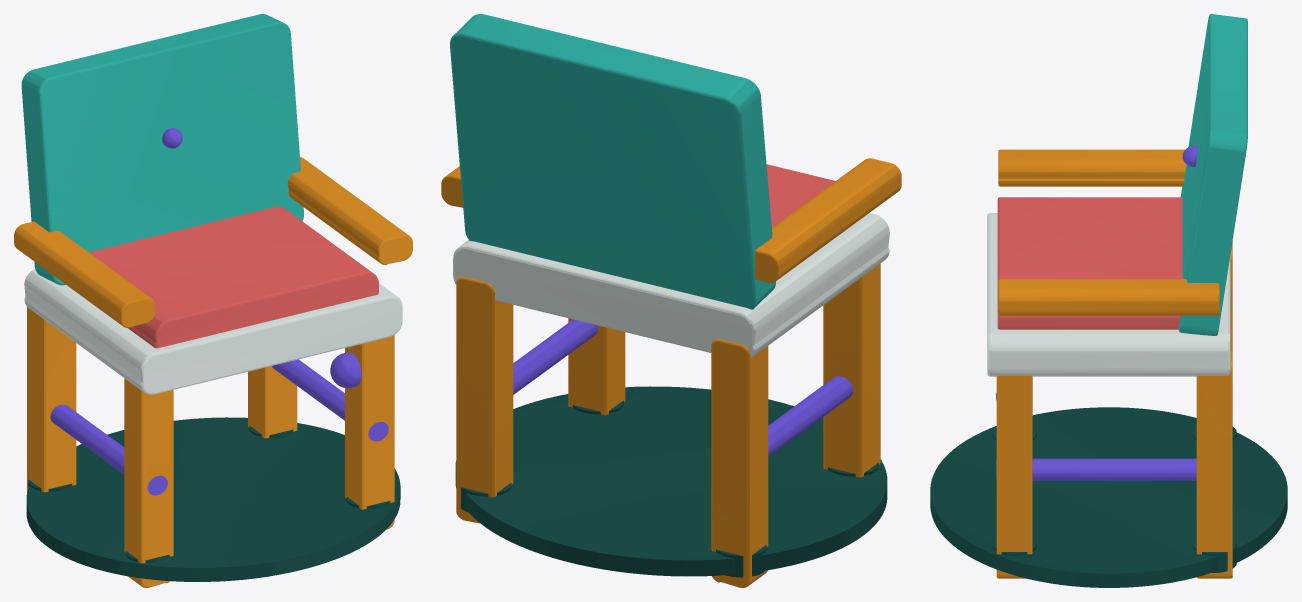
File: 0959_农业科技图鉴_绿僵菌.glb
The picture shows the model from 3 angles, left to right: view 1: azimuth 30°, elevation 25°; view 2: azimuth 150°, elevation 25°; view 3: azimuth 270°, elevation 25°; orthographic projection. The views are drawn at different scales.
Visible parts, largest first — view 1: card_0959; view 2: card_0959; view 3: card_0959.
Part boxes in pixels (x1,y1,x2,y2): card_0959: (14,14,412,587); card_0959: (441,14,901,587); card_0959: (930,14,1287,587).
Size of the model in its own units: 0.8006 by 1 by 0.7271.
